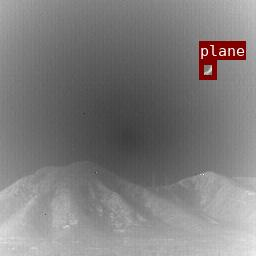plane: (199, 60, 216, 79)
